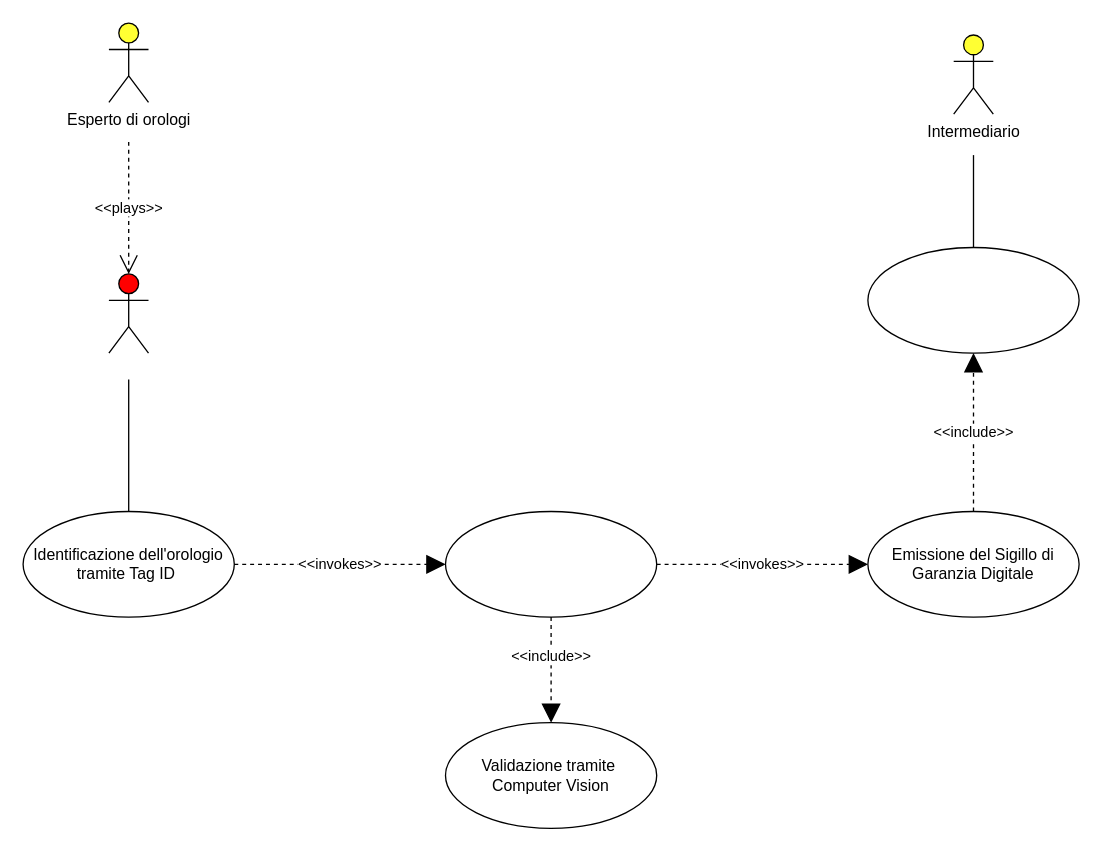
Some shapes in this 1102 by 851 pixel diagram are drawn without their labels. The shapes that lost their labels are listed below. From the top down, each one's box as (x1, y1, x2, y2) in pixels, then its label:
(108, 273, 148, 353): Certificatore
(867, 246, 1079, 353): Registrazione della certificazione sulla Blockchain
(444, 510, 657, 617): Esecuzione della perizia tecnica
